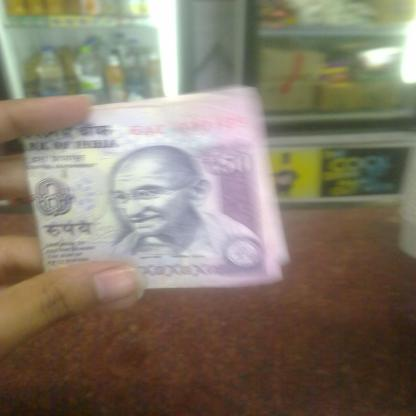Old50Front: (21, 83, 292, 289)
